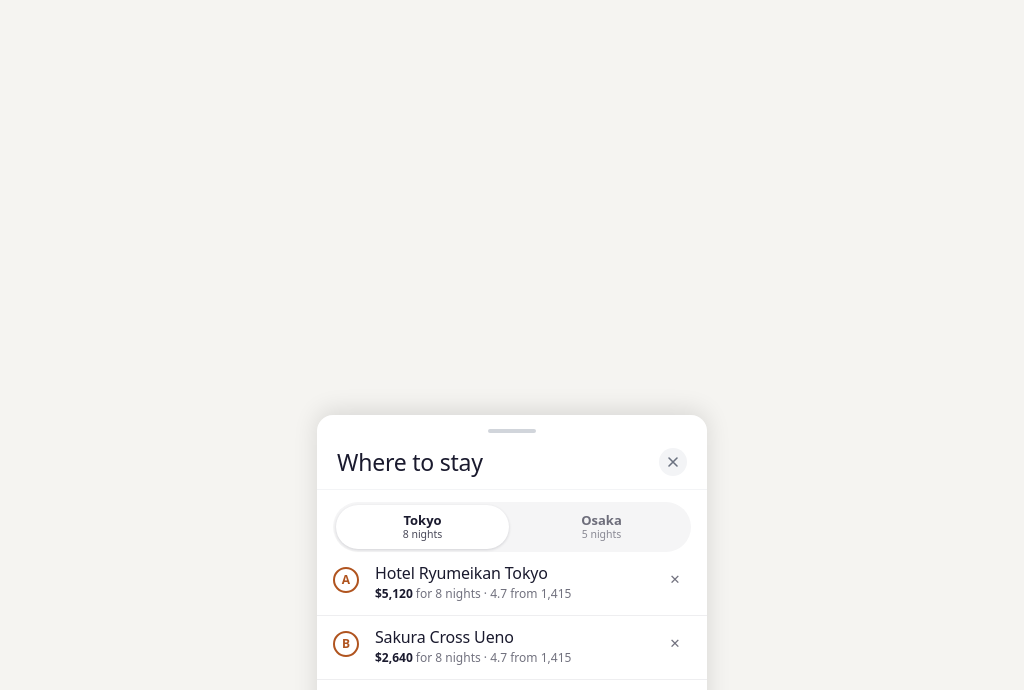
Test case: a base that has not searched yet › asks before spending a search, then says what it is doing where the rows will be
Expected: the text "Hotel Ryumeikan Tokyo" is shown, x1=375 y1=562 x2=548 y2=584
Click the tab "Osaka 5 nights": x=602, y=527 x1=515 y1=505 x2=688 y2=549
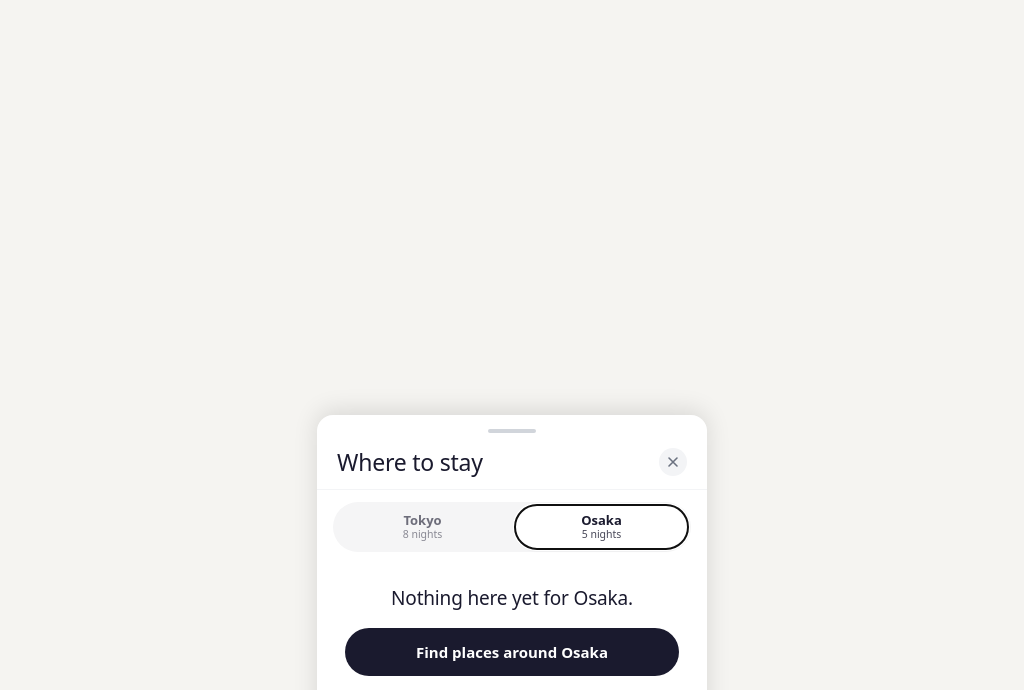
Click the button "Find places around Osaka": x=512, y=652 x1=345 y1=628 x2=679 y2=676
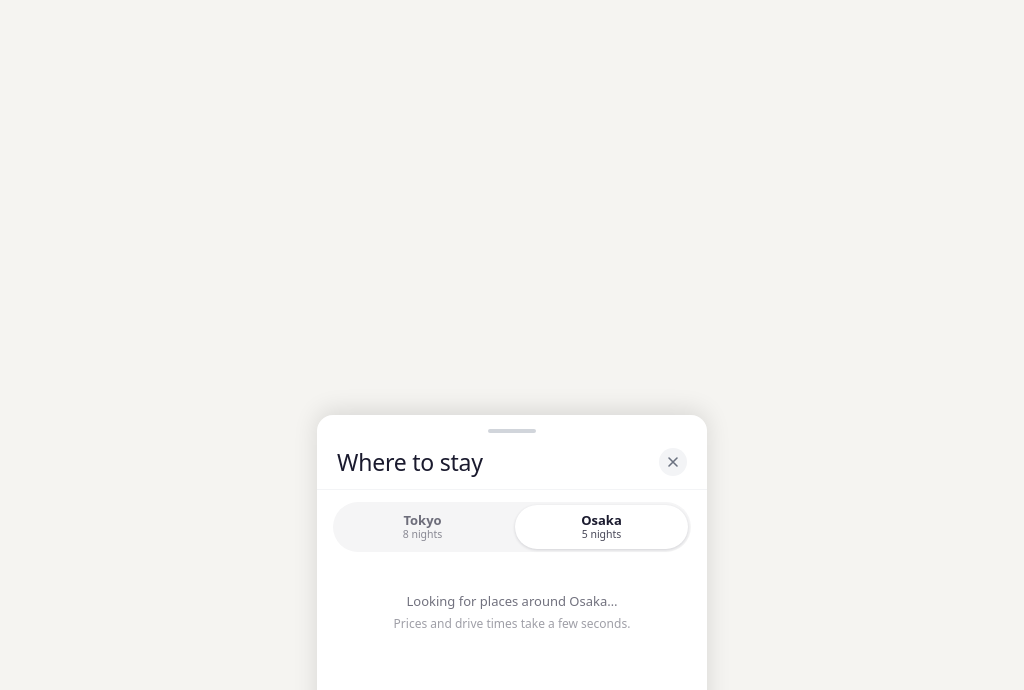
Expected: the text "Looking for places around Osaka…" is shown, x1=406 y1=592 x2=618 y2=610
Expected: the text "Prices and drive times take a few seconds." is shown, x1=394 y1=615 x2=630 y2=632
